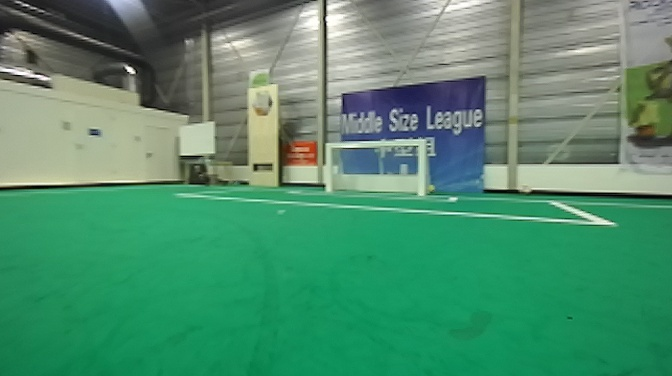ball: (425, 178, 446, 192), (517, 182, 535, 196)
goalpost: (321, 139, 344, 195), (413, 138, 429, 198)
